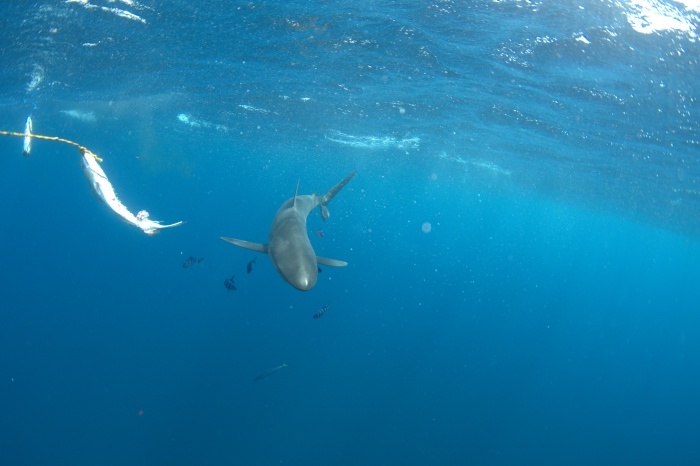Sedoso: (206, 153, 365, 299)
